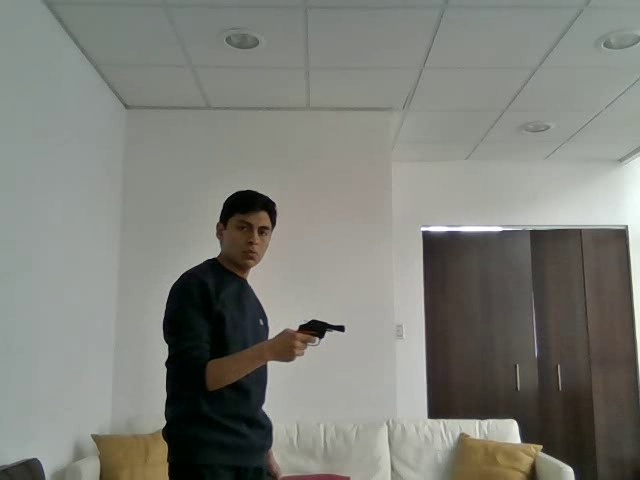pistola: (291, 312, 353, 349)
